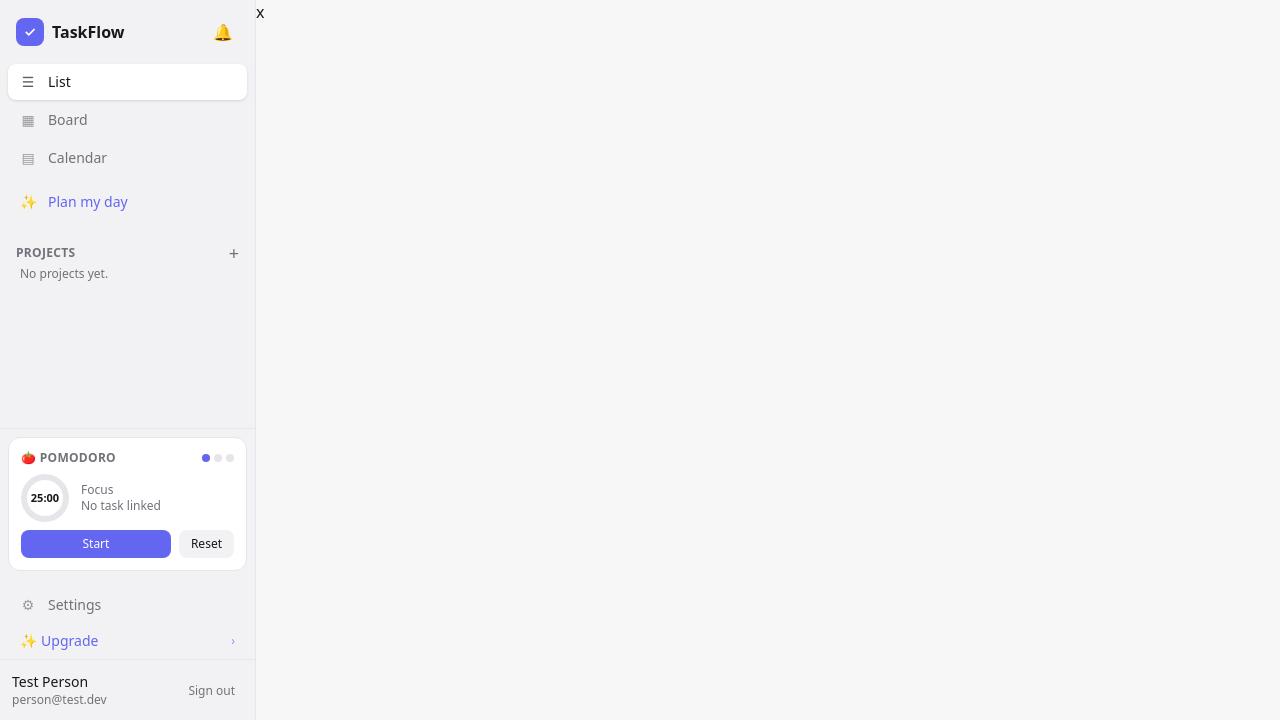
Test: AppShell › opens Plan my day dialog
Click the button "✨ Plan my day" at x=128, y=202, box left=8, top=184, right=247, bottom=220
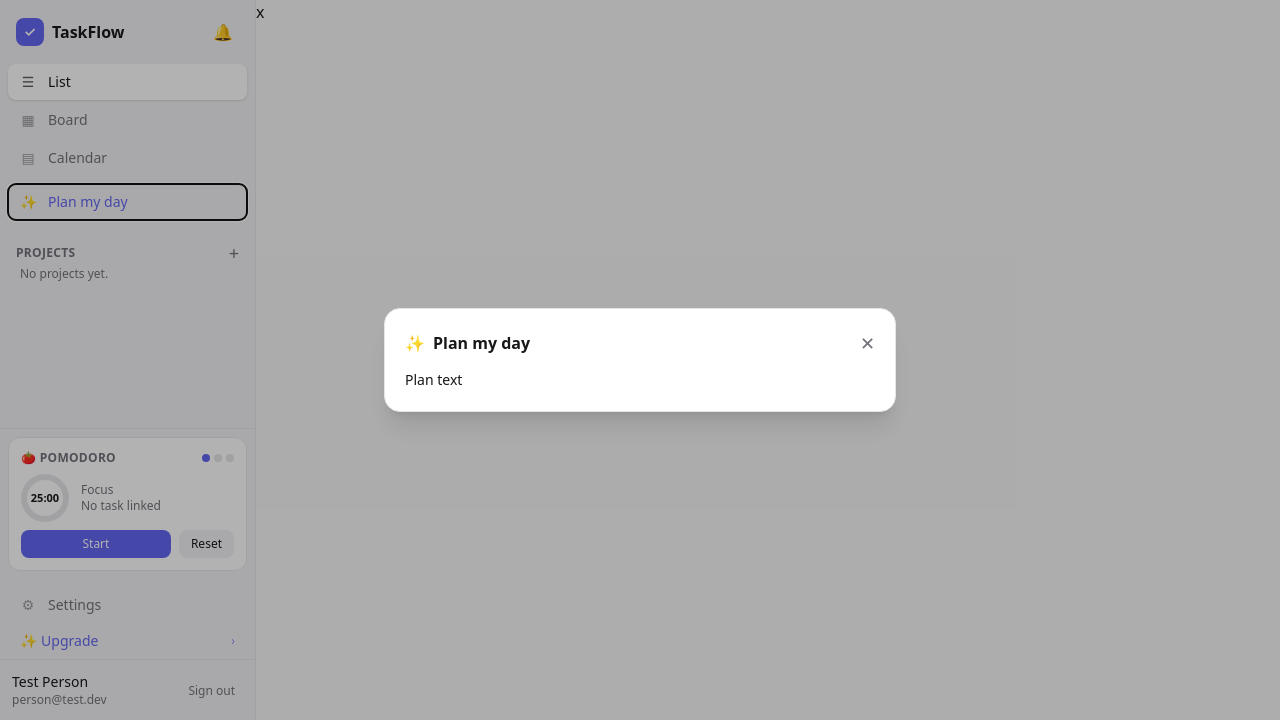
Now the text "Plan text" is shown, box left=405, top=370, right=462, bottom=389
